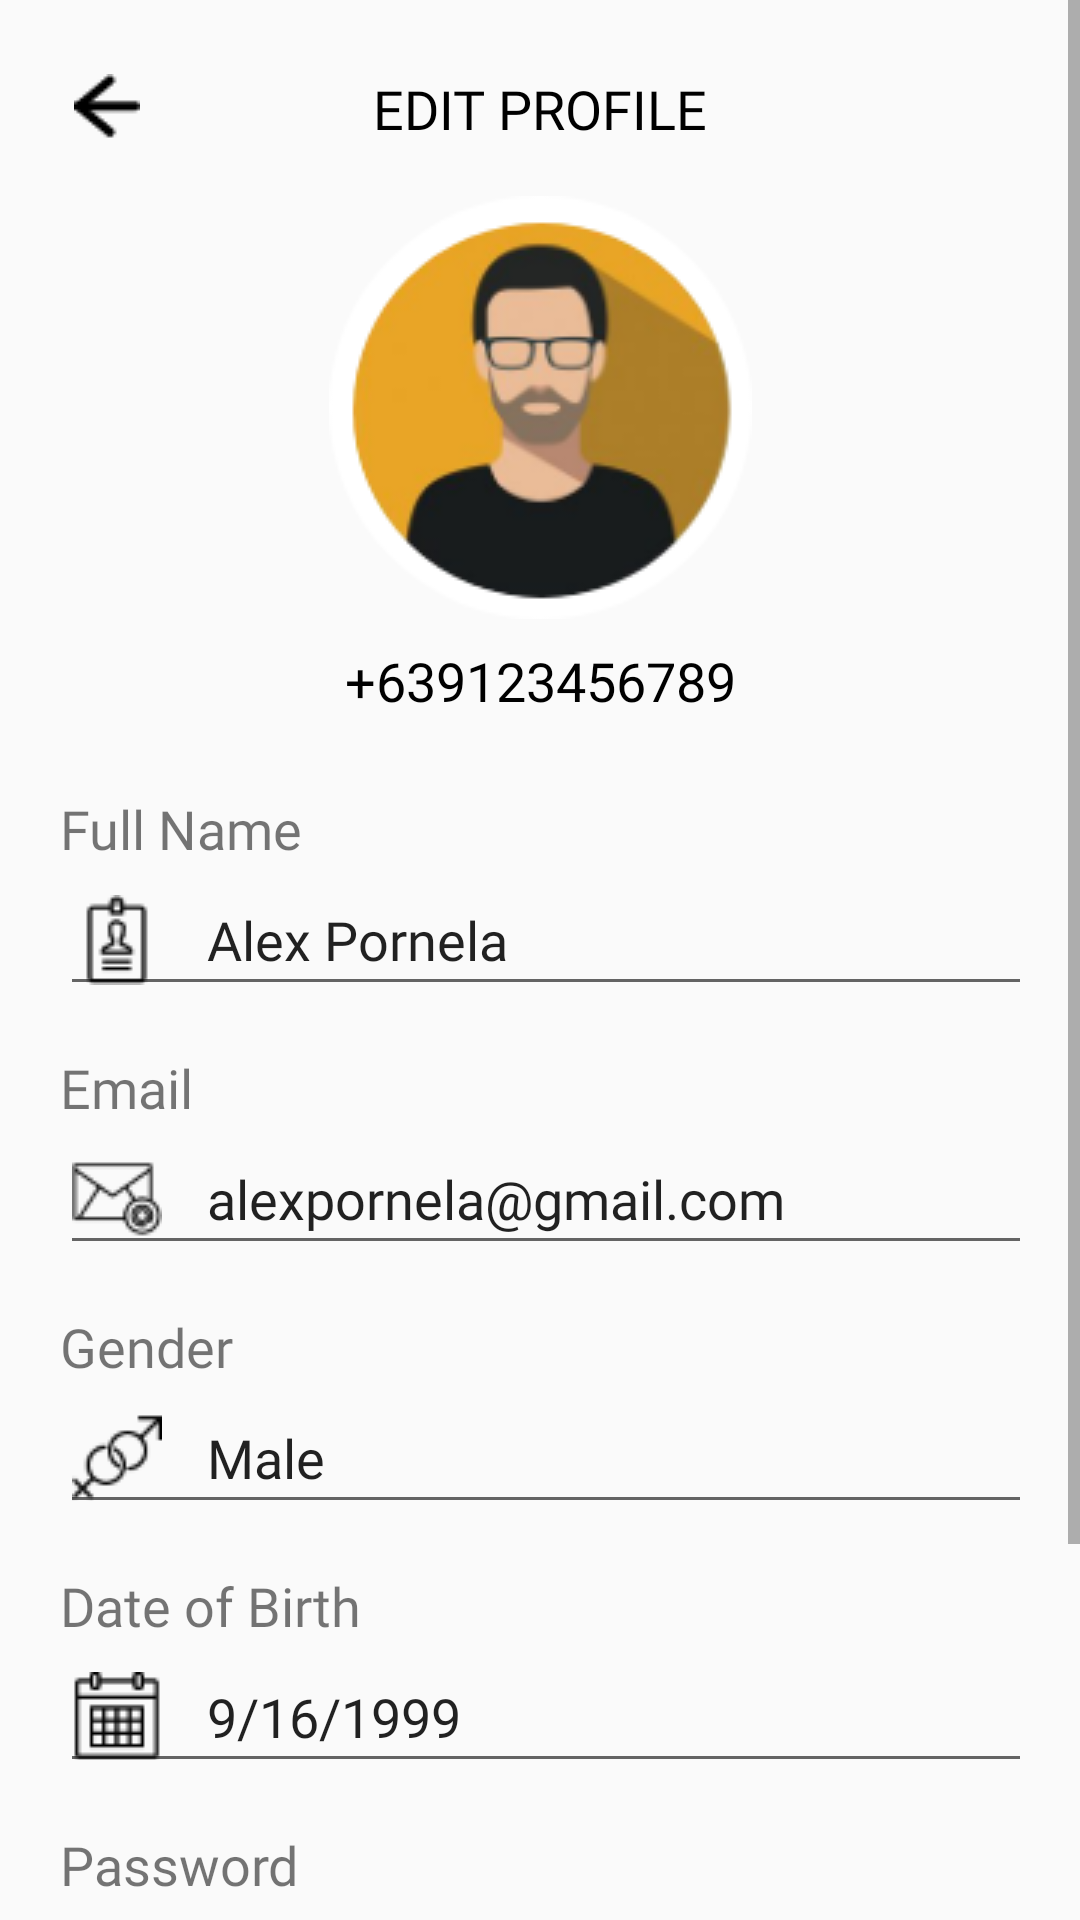

Point at icon controls on the screen. Image size 1080 x 1920, points as point (x, y).
back arrow: point (107, 106)
